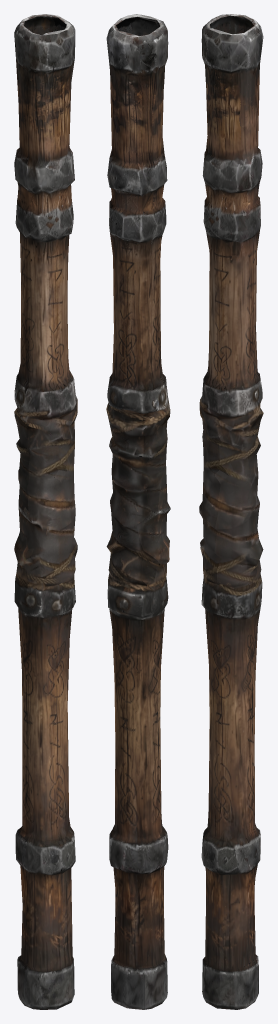
Rendered from SM_Staff_Reinforced_Battle_Staff.FBX.
3 views of the same model, side by side, from view 1: azimuth 30°, elevation 25°; view 2: azimuth 150°, elevation 25°; view 3: azimuth 330°, elevation 25° (orthographic).
Visible parts, largest first — view 1: SM_Staff_Reinforced_Battle_Staff; view 2: SM_Staff_Reinforced_Battle_Staff; view 3: SM_Staff_Reinforced_Battle_Staff.
Part boxes in pixels (bbox=[...]): SM_Staff_Reinforced_Battle_Staff: bbox=[14, 14, 77, 1009]; SM_Staff_Reinforced_Battle_Staff: bbox=[106, 14, 170, 1009]; SM_Staff_Reinforced_Battle_Staff: bbox=[199, 14, 263, 1009].
Size of what is drawn, in the model's own units: 10.08 by 9.42 by 160.
